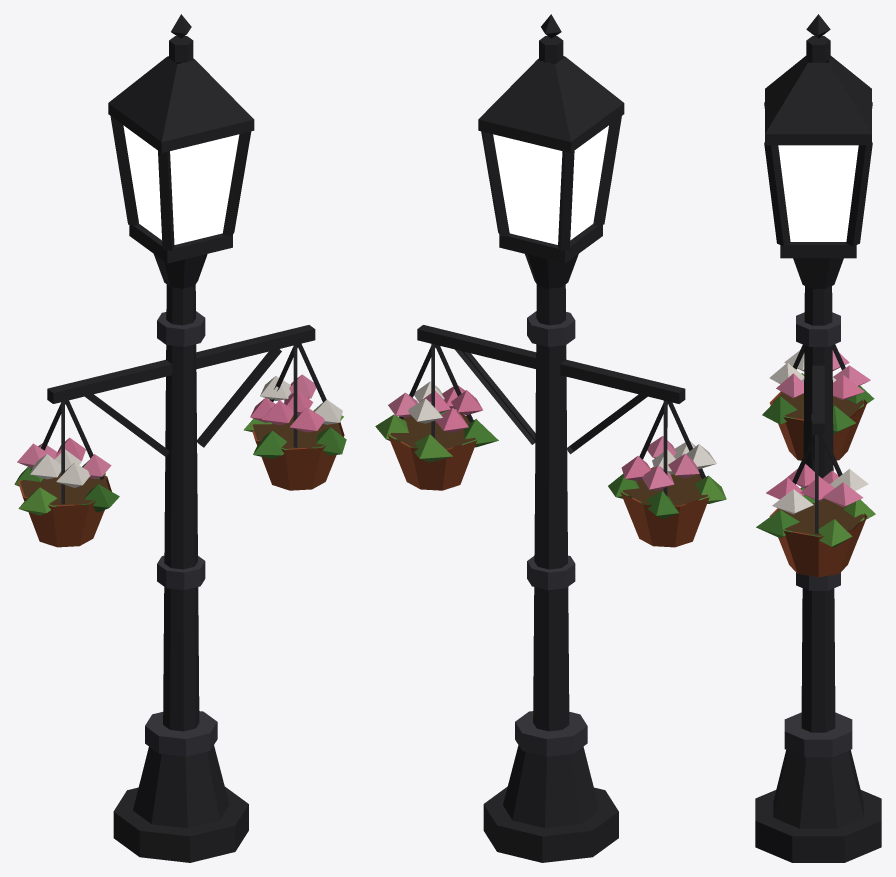
File: town_lamp.glb
3 views of the same model, side by side, from view 1: azimuth 30°, elevation 25°; view 2: azimuth 150°, elevation 25°; view 3: azimuth 270°, elevation 25° (orthographic).
Visible parts, largest first — view 1: town_lamp; view 2: town_lamp; view 3: town_lamp.
Part boxes in pixels (<box>): town_lamp: <box>14,14,346,862</box>; town_lamp: <box>375,14,726,862</box>; town_lamp: <box>755,14,881,862</box>.
Size of the model in its own units: 1.6 by 3.71 by 0.5172.
